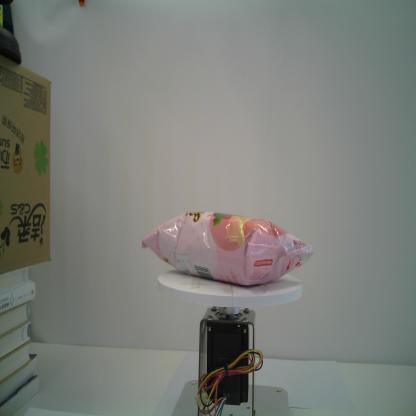Puffed Food: (141, 210, 314, 286)
